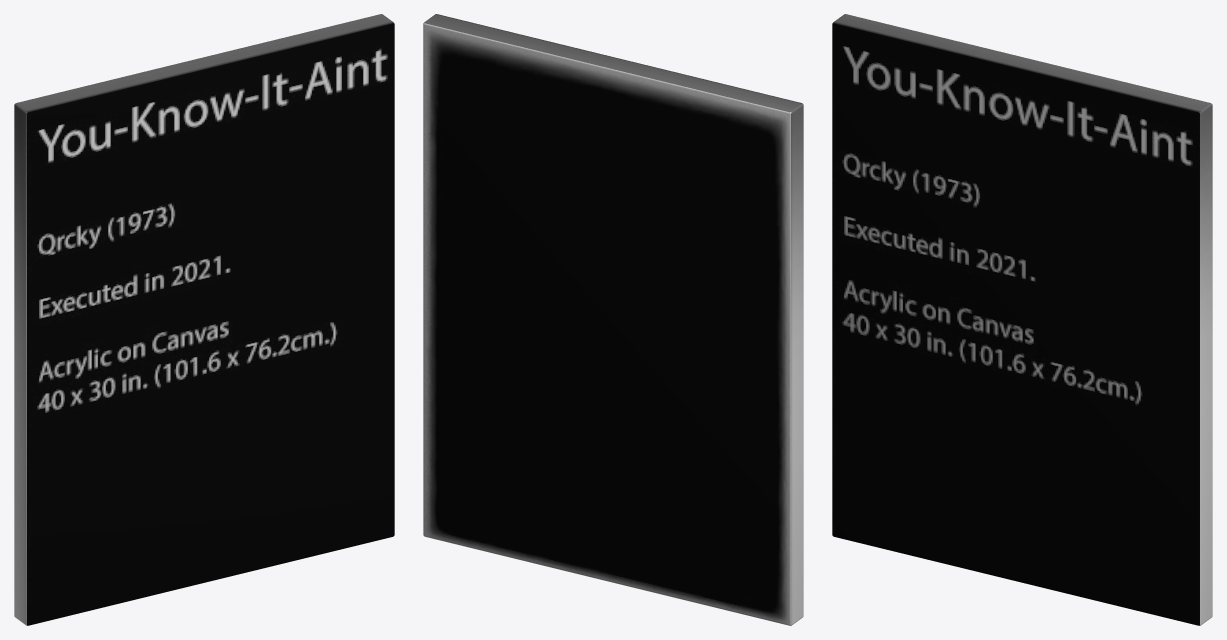
File: youknowitaint.glb
The picture shows the model from 3 angles, left to right: view 1: azimuth 30°, elevation 25°; view 2: azimuth 150°, elevation 25°; view 3: azimuth 330°, elevation 25°; orthographic projection.
Parts seen in each view (by area): view 1: Canvas; view 2: Canvas; view 3: Canvas.
Part boxes in pixels (x1,y1,x2,y2): Canvas: (14,14,394,625); Canvas: (423,14,803,625); Canvas: (832,14,1212,625).
Bounding box in the file's own units: 1.56 × 2.08 × 0.0956.
1 material, 1 textured.
